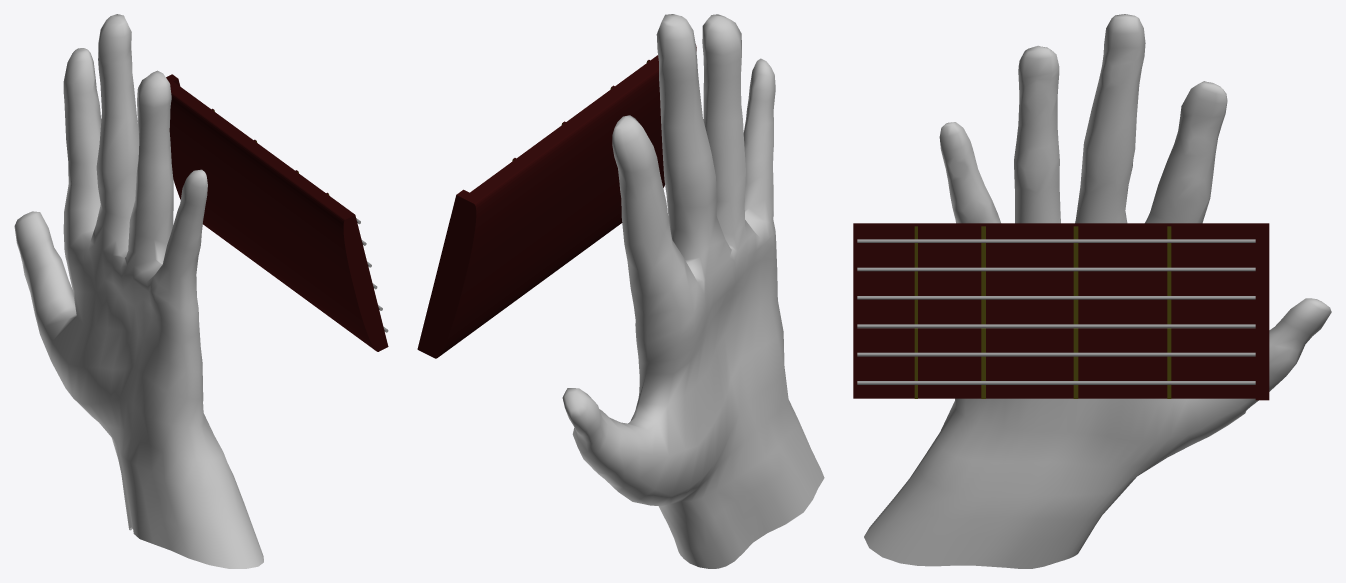
File: hand.fbx
The picture shows the model from 3 angles, left to right: view 1: azimuth 30°, elevation 25°; view 2: azimuth 150°, elevation 25°; view 3: azimuth 270°, elevation 25°; orthographic projection. The views are drawn at different scales.
Visible parts, largest first — view 1: Окружность, Cube; view 2: Окружность, Cube; view 3: Cube, Окружность.
Boxes of the visible parts, bbox=[...] form: Окружность: bbox=[14, 14, 263, 568]; Cube: bbox=[166, 74, 388, 351]; Окружность: bbox=[562, 14, 824, 568]; Cube: bbox=[417, 44, 696, 358]; Cube: bbox=[853, 223, 1269, 400]; Окружность: bbox=[864, 14, 1331, 568].
Bounding box in the file's own units: 505 × 1191 × 956.
